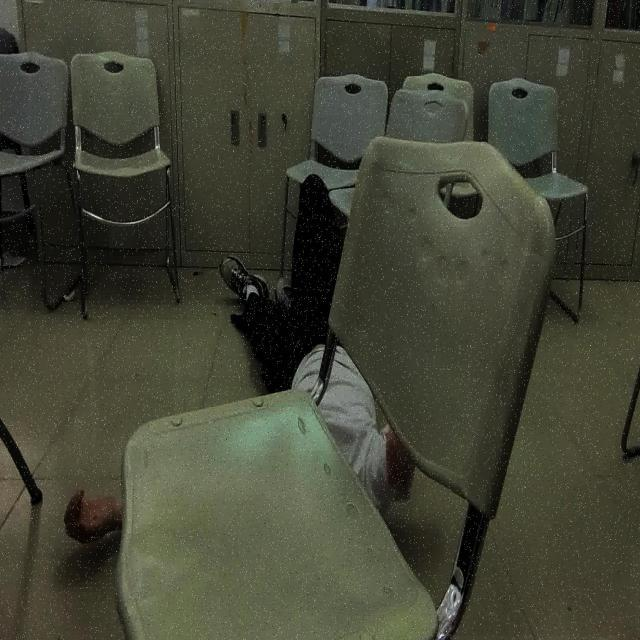fall: (64, 171, 421, 605)
